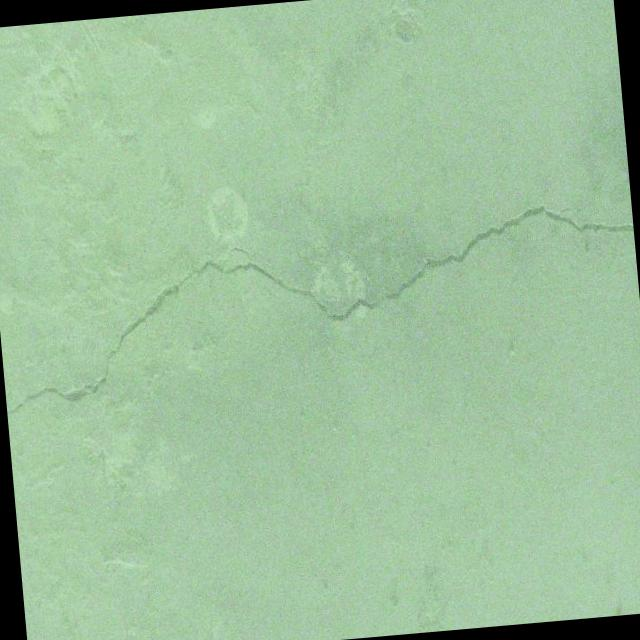crack: (0, 186, 640, 415)
